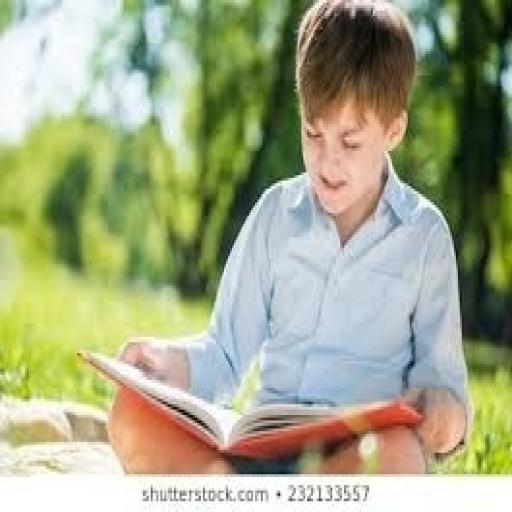sitting: (104, 0, 471, 474)
